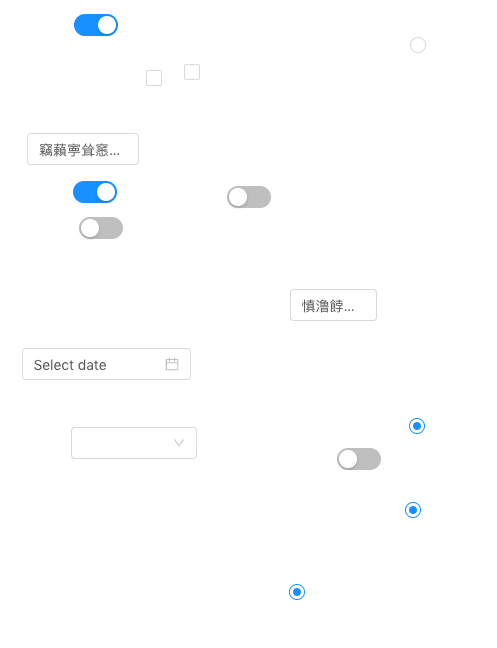Checkbox: (146, 67, 162, 88), (184, 61, 200, 82)
DatePicker: (22, 348, 191, 380)
Input: (27, 133, 139, 165), (290, 289, 377, 321)
Radio: (410, 34, 426, 54), (409, 415, 425, 435), (405, 499, 421, 519), (289, 581, 305, 601)
Select: (71, 427, 197, 459)
Switch: (227, 185, 271, 209), (337, 447, 381, 471), (79, 216, 123, 240), (73, 180, 117, 204), (74, 13, 118, 37)
